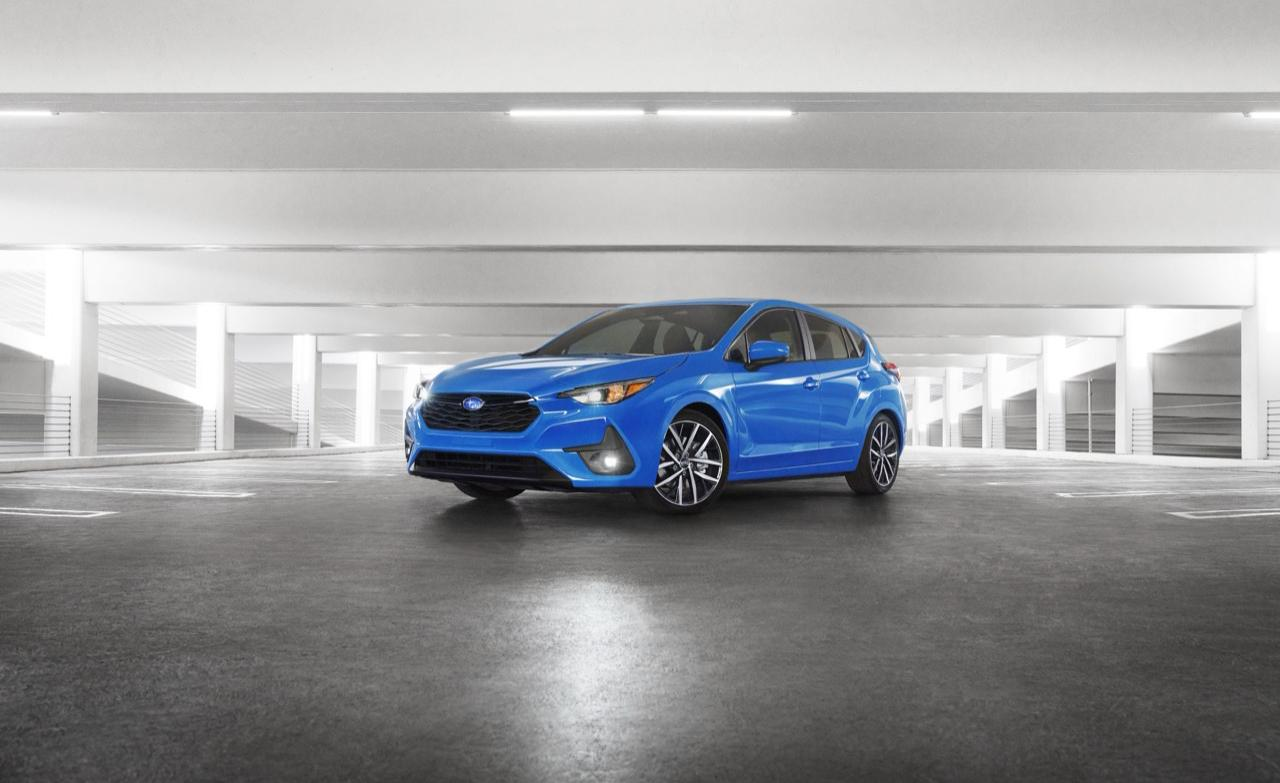subaru: (454, 389, 491, 420)
